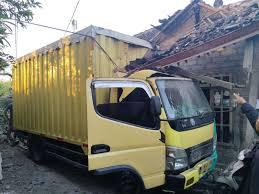truck: (67, 62, 224, 194)
